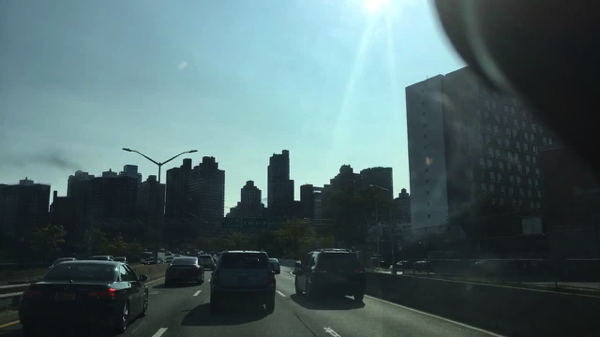car: (19, 260, 149, 333), (210, 250, 275, 315), (294, 249, 365, 304), (163, 256, 205, 286), (48, 257, 76, 268), (198, 256, 215, 268), (270, 257, 280, 274), (92, 256, 114, 262), (146, 256, 162, 264), (396, 260, 412, 268), (116, 258, 130, 265), (165, 257, 174, 263), (165, 251, 173, 256), (141, 260, 147, 264)
traffic sign: (242, 217, 267, 230), (223, 217, 240, 230), (247, 213, 258, 216)
truck: (414, 250, 464, 272)
